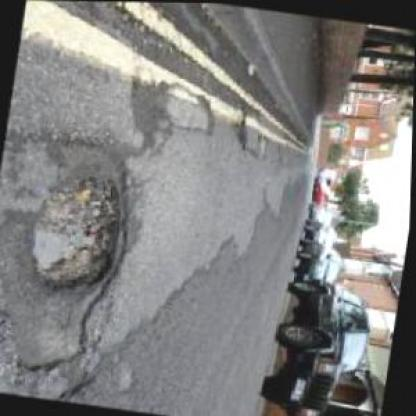pothole: (22, 162, 136, 301)
